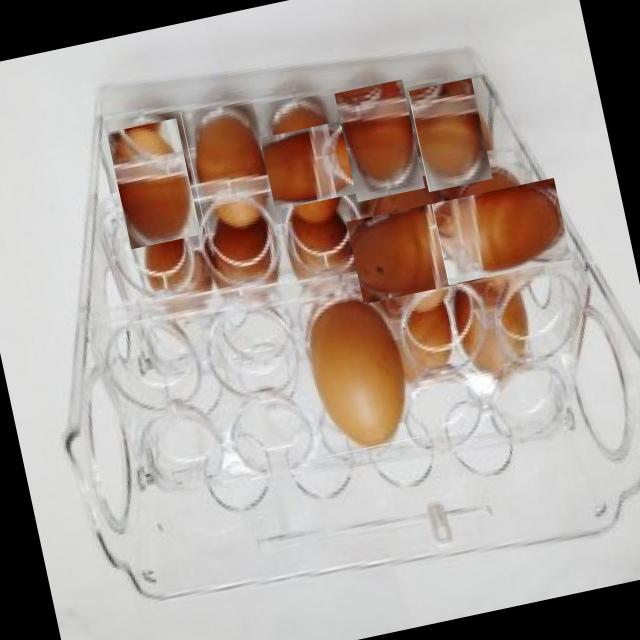eggs: (294, 285, 420, 457), (354, 187, 478, 312), (439, 169, 564, 293), (180, 96, 278, 236), (250, 108, 364, 222), (106, 118, 200, 250), (333, 78, 425, 202), (408, 77, 492, 192)
